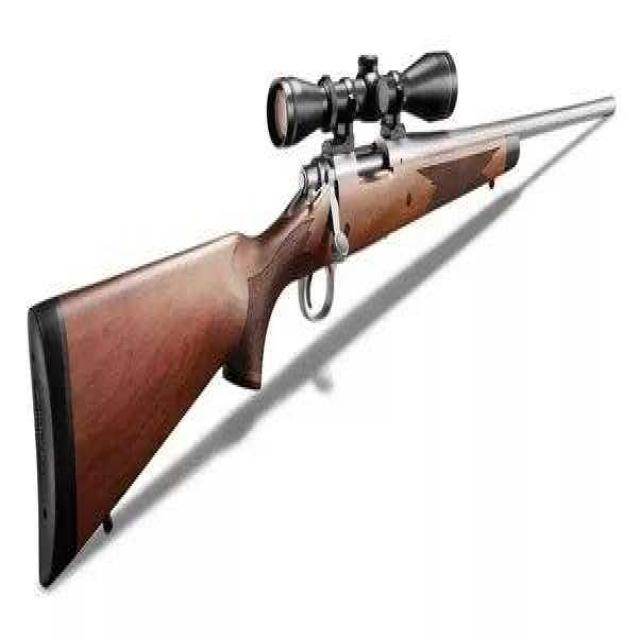heavyweapon: (1, 19, 622, 619)
